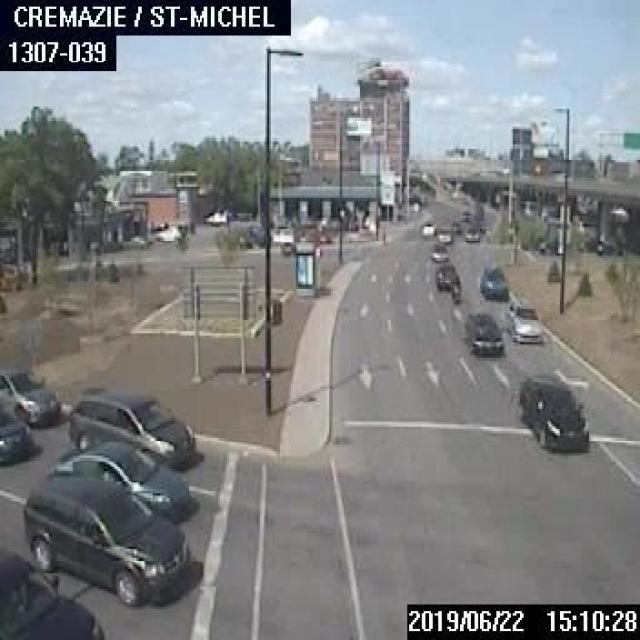vehicle: (22, 474, 189, 606), (44, 439, 188, 523), (67, 389, 193, 470), (0, 549, 100, 638), (516, 371, 588, 451), (0, 368, 60, 426), (0, 404, 29, 464), (462, 311, 501, 353), (506, 300, 540, 342), (480, 263, 507, 299), (433, 261, 457, 289), (153, 223, 180, 239), (431, 241, 447, 262), (450, 272, 460, 304), (435, 224, 451, 243), (420, 219, 434, 236), (464, 224, 478, 240), (459, 208, 470, 219), (450, 220, 460, 232)
